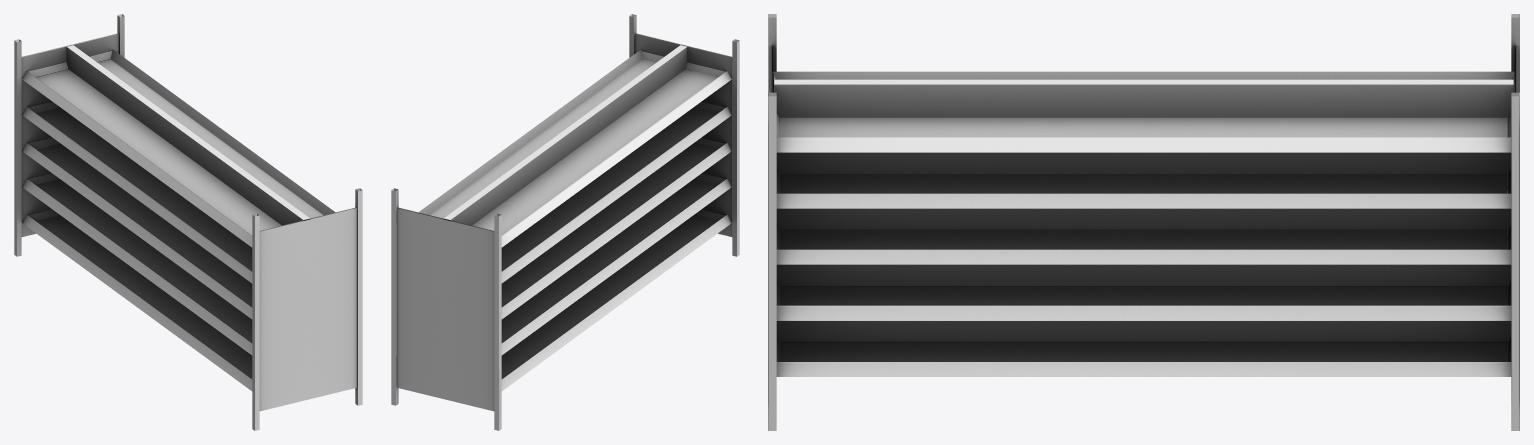
The model's file is rack.fbx.
The picture shows the model from 3 angles, left to right: view 1: azimuth 30°, elevation 25°; view 2: azimuth 150°, elevation 25°; view 3: azimuth 270°, elevation 25°; orthographic projection. The views are drawn at different scales.
Parts seen in each view (by area): view 1: Cube; view 2: Cube; view 3: Cube.
Part boxes in pixels (x1,y1,x2,y2): Cube: (14, 14, 362, 430); Cube: (391, 14, 739, 430); Cube: (768, 14, 1519, 430).
Bounding box in the file's own units: 103 × 196 × 399.
Materials: 1 (1 with a texture image).
